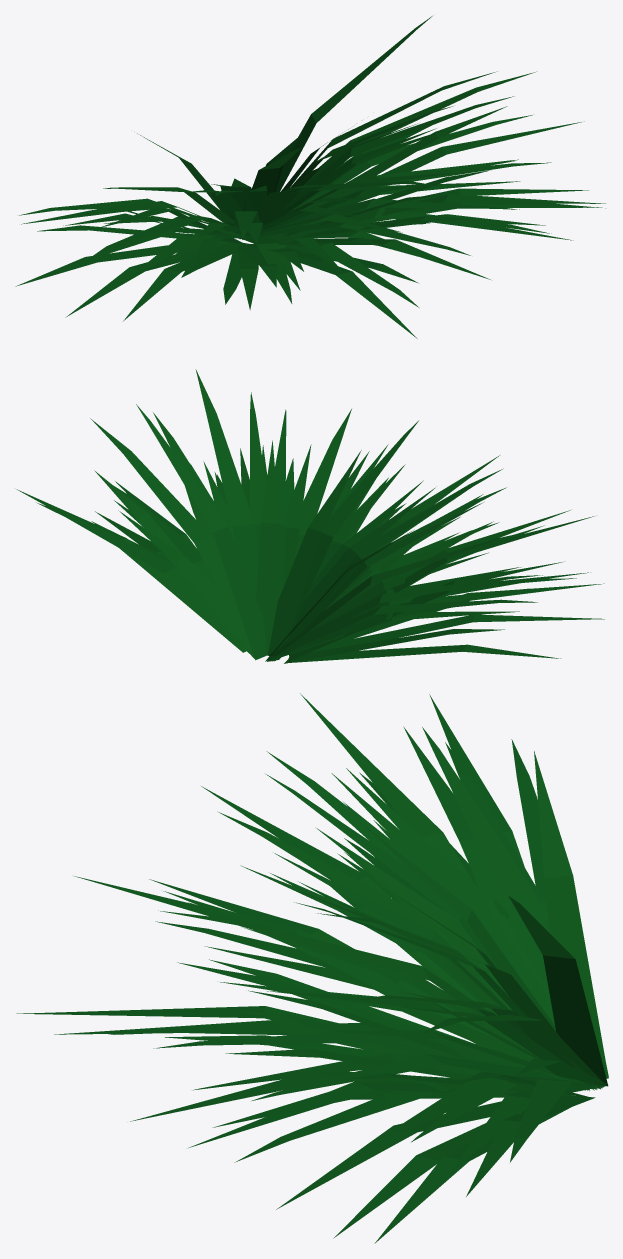
File: small_grass.FBX
3 renders of one model, top to bottom at view 1: azimuth 30°, elevation 25°; view 2: azimuth 150°, elevation 25°; view 3: azimuth 270°, elevation 25°, orthographic. The views are drawn at different scales.
Visible parts, largest first — view 1: default; view 2: default; view 3: default.
Part boxes in pixels (box(x1,y1,x2,y2)): default: box(15, 16, 605, 338); default: box(16, 369, 604, 663); default: box(16, 693, 608, 1243).
Size of the model in its own units: 0.9457 by 0.3131 by 0.5493.
